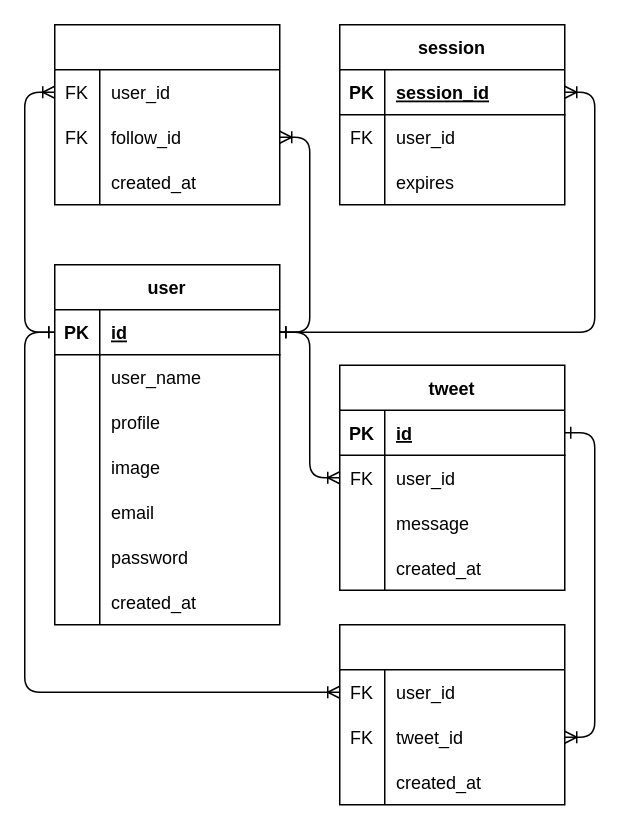
This 620x830 diagram has some shape labels left out. Each missing label, with the box of its shape:
favorite: (338, 623, 565, 805)
relationship: (53, 23, 280, 205)
